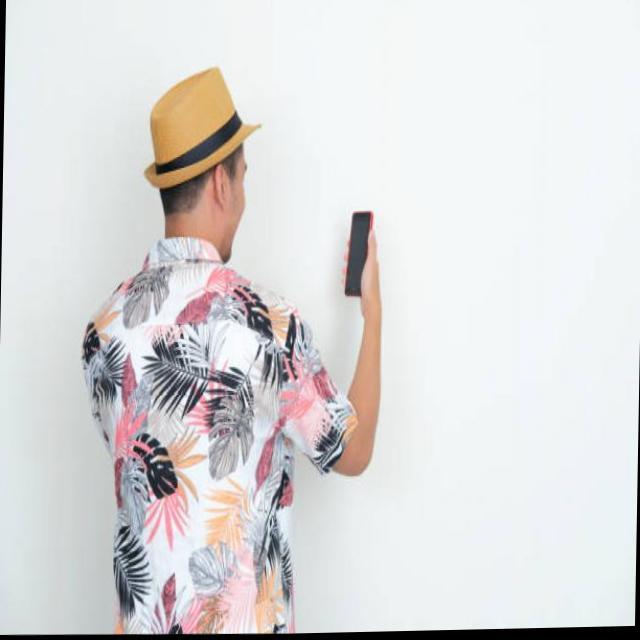no helmet: (118, 49, 262, 288)
